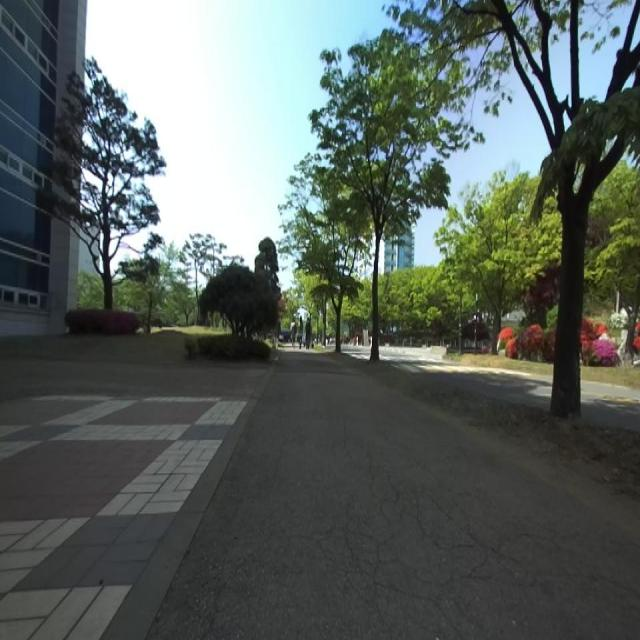sidewalk: (150, 354, 639, 639)
